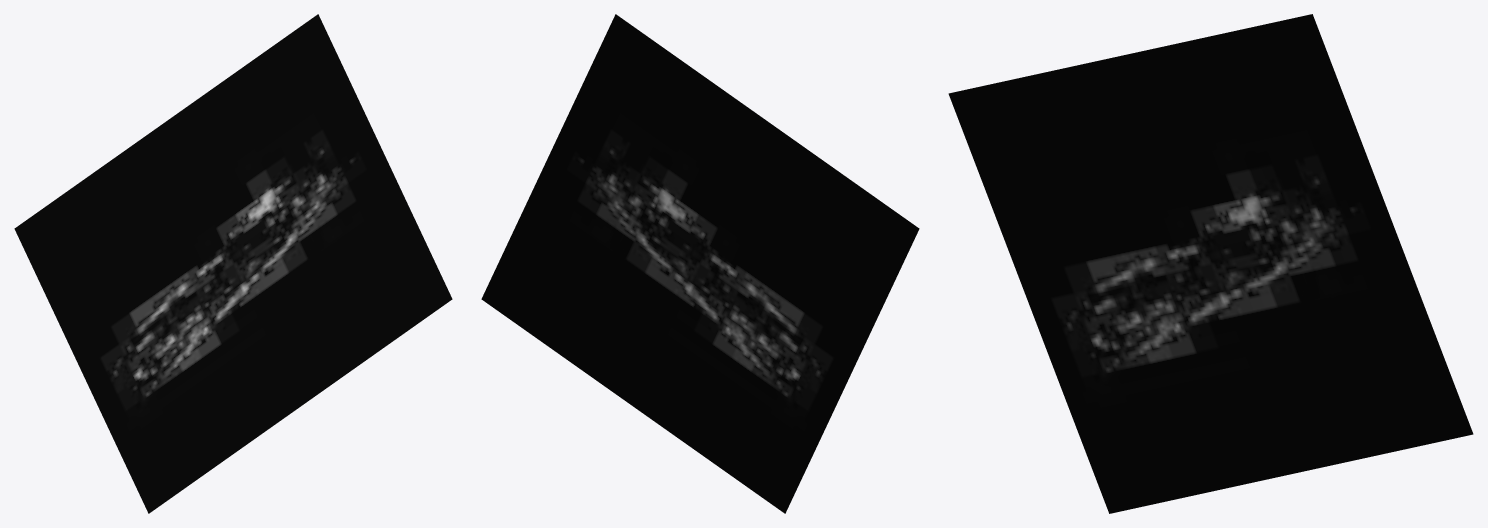
File: impact.glb
3 renders of one model, left to right at view 1: azimuth 30°, elevation 25°; view 2: azimuth 150°, elevation 25°; view 3: azimuth 330°, elevation 25°, orthographic. The views are drawn at different scales.
Parts seen in each view (by area): view 1: quad2; view 2: quad2; view 3: quad2.
Part boxes in pixels (box(x1,y1,x2,y2)): quad2: box(14, 14, 452, 513); quad2: box(481, 14, 919, 513); quad2: box(948, 14, 1473, 513).
Bounding box in the file's own units: 0.3957 × 0.3957 × 4.12e-08.
1 material, 1 textured.
